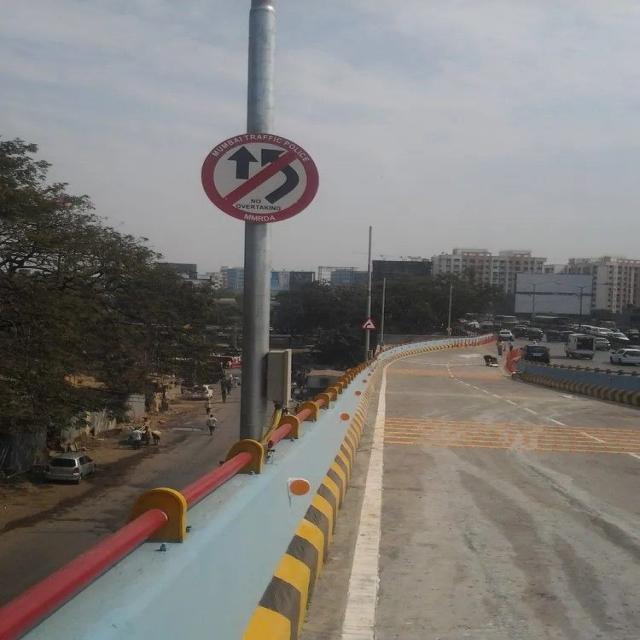overtaking prohibited: (201, 132, 322, 225)
